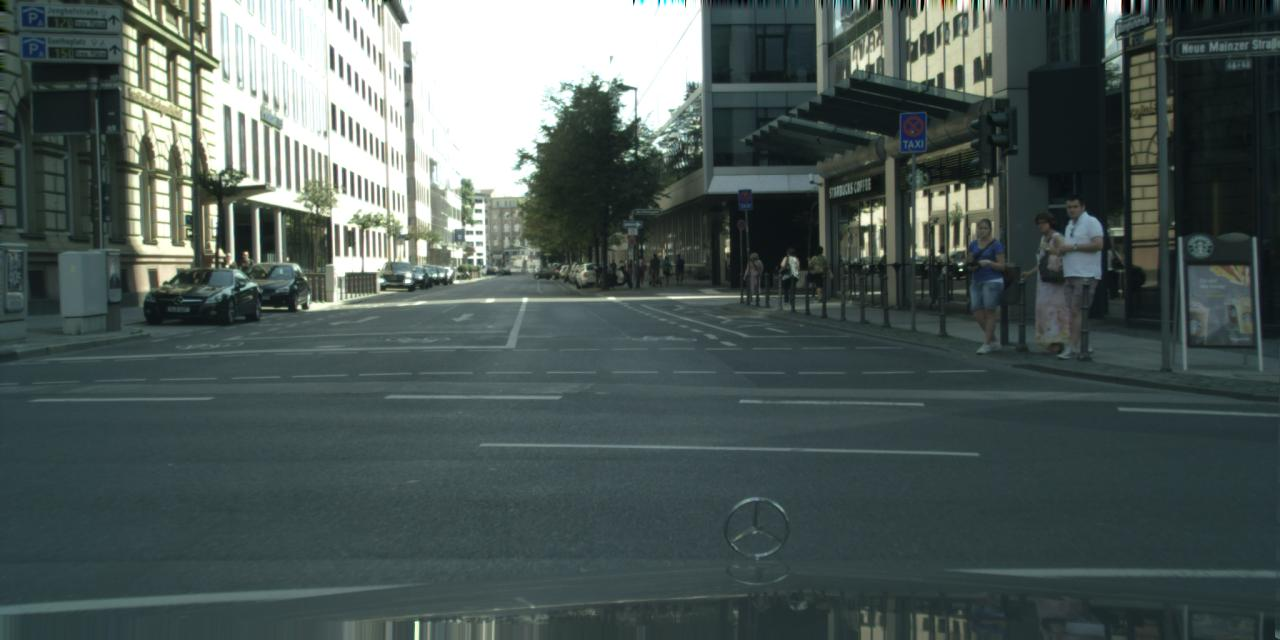ped: (1042, 195, 1109, 358), (1020, 210, 1078, 353), (960, 218, 1014, 352), (809, 245, 832, 303), (778, 246, 801, 302), (236, 250, 258, 302), (219, 252, 239, 303), (744, 252, 764, 300), (648, 252, 662, 286), (659, 254, 672, 286), (673, 253, 685, 284), (635, 255, 645, 281), (609, 259, 617, 279), (617, 260, 625, 278), (627, 259, 634, 279)
